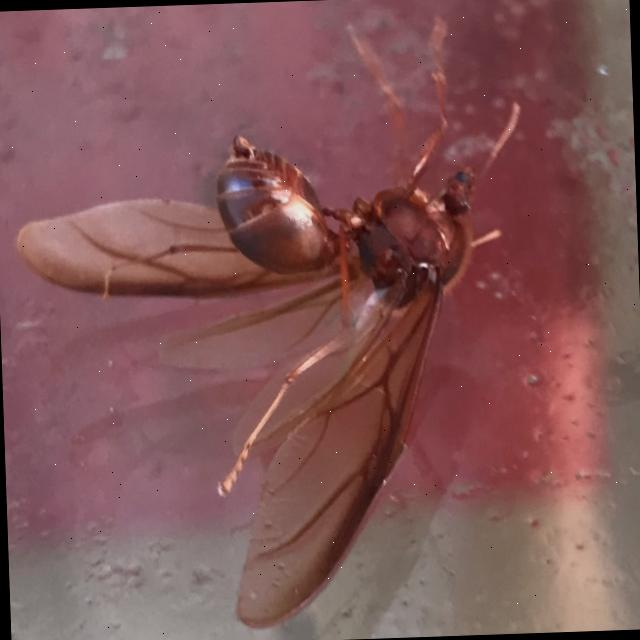Dead-Male-Alate: (7, 12, 536, 636)
